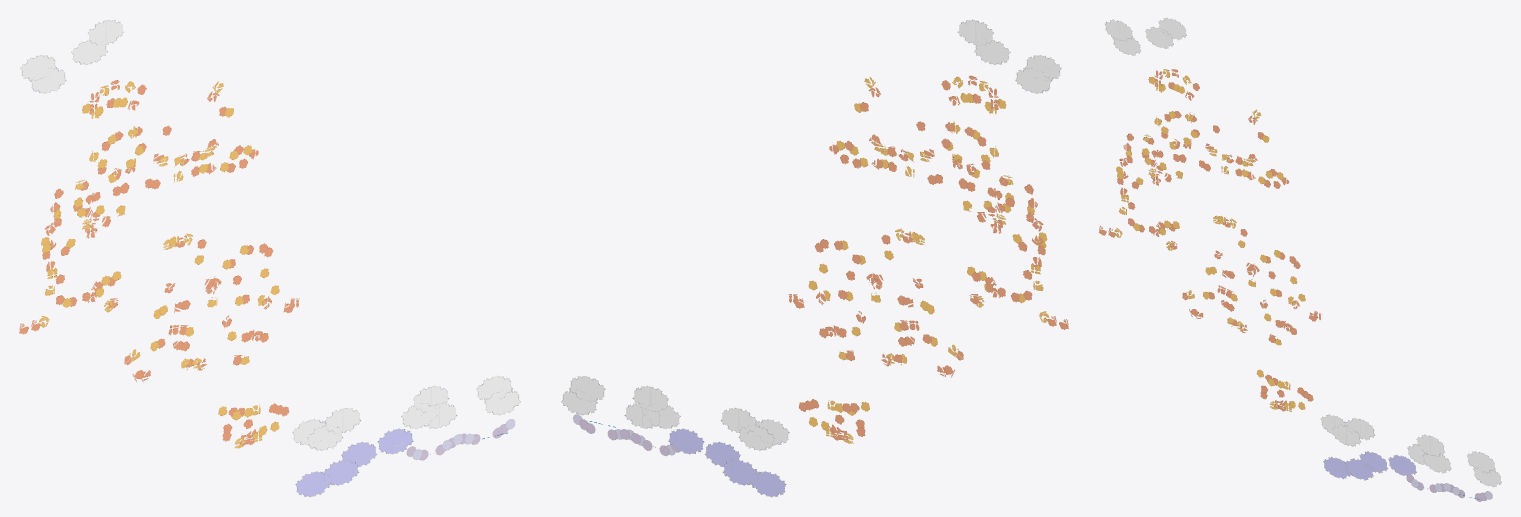
The model's file is tainai02_bg.glb.
The picture shows the model from 3 angles, left to right: view 1: azimuth 30°, elevation 25°; view 2: azimuth 150°, elevation 25°; view 3: azimuth 330°, elevation 25°; orthographic projection. The views are drawn at different scales.
Visible parts, largest first — view 1: tainai02_bg; view 2: tainai02_bg; view 3: tainai02_bg.
Part boxes in pixels (x1=…): tainai02_bg: x1=19, y1=19, x2=520, y2=497; tainai02_bg: x1=561, y1=19, x2=1068, y2=497; tainai02_bg: x1=1098, y1=17, x2=1501, y2=501.
Bounding box in the file's own units: 5007 × 4927 × 135.
8 materials, 8 textured.
